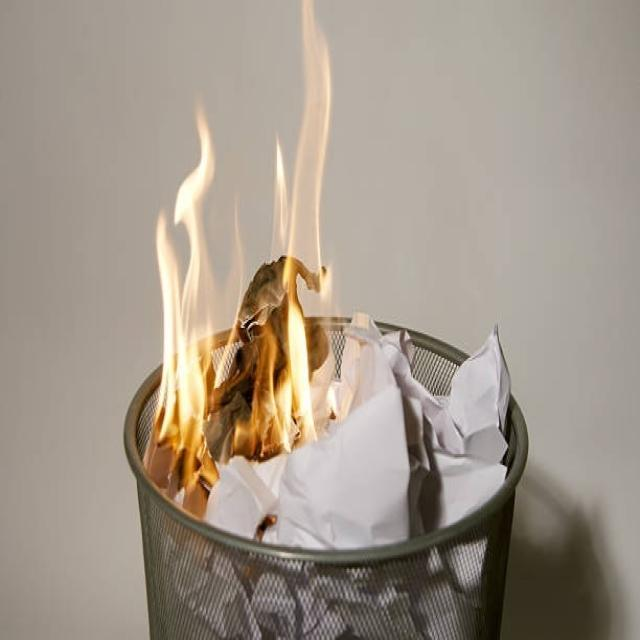Fire: (125, 27, 368, 507)
